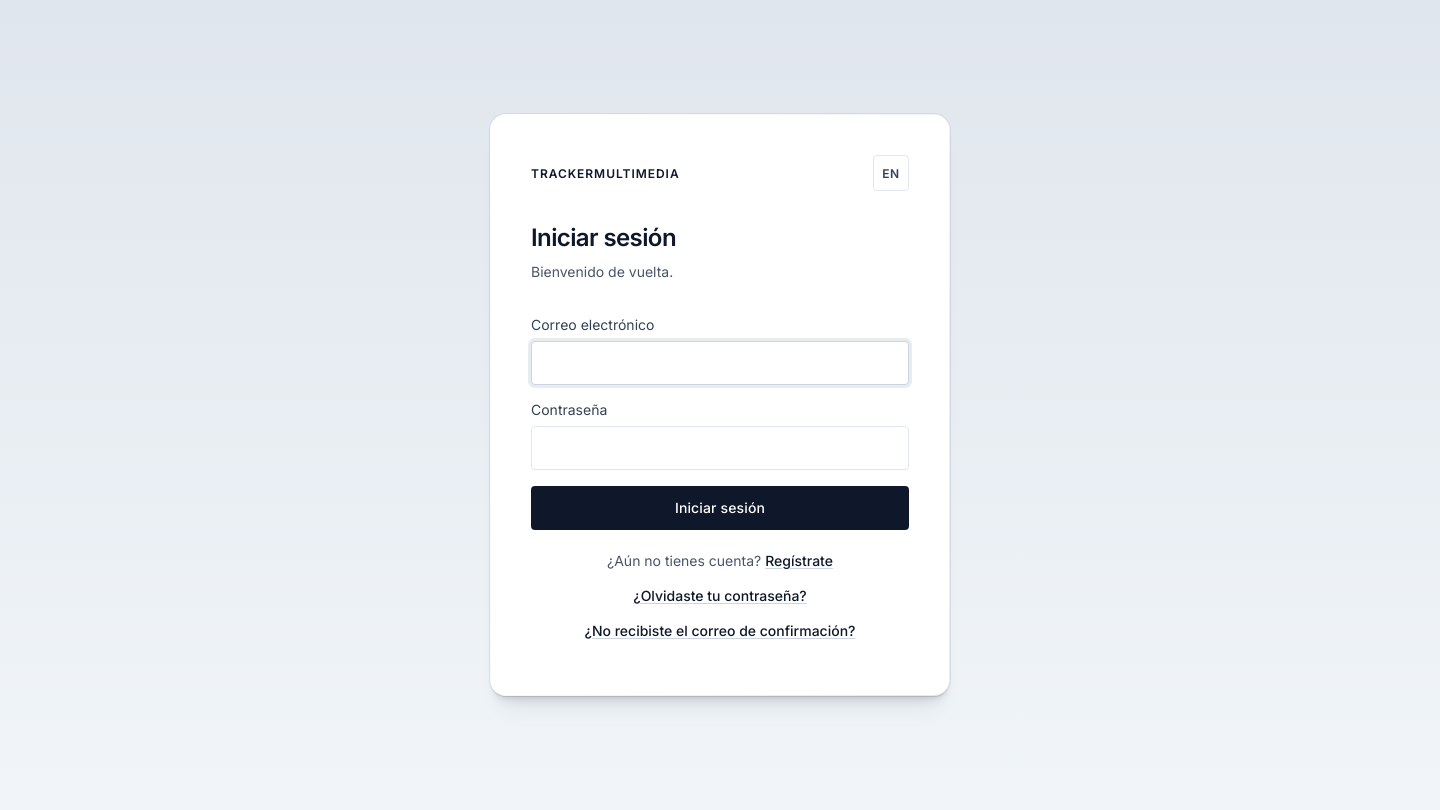
Scenario: LoginView › shows email validation error on real-time validation
Type "invalid-email" into the field labelled "Correo electrónico" at (720, 363), box [531,341,909,385]
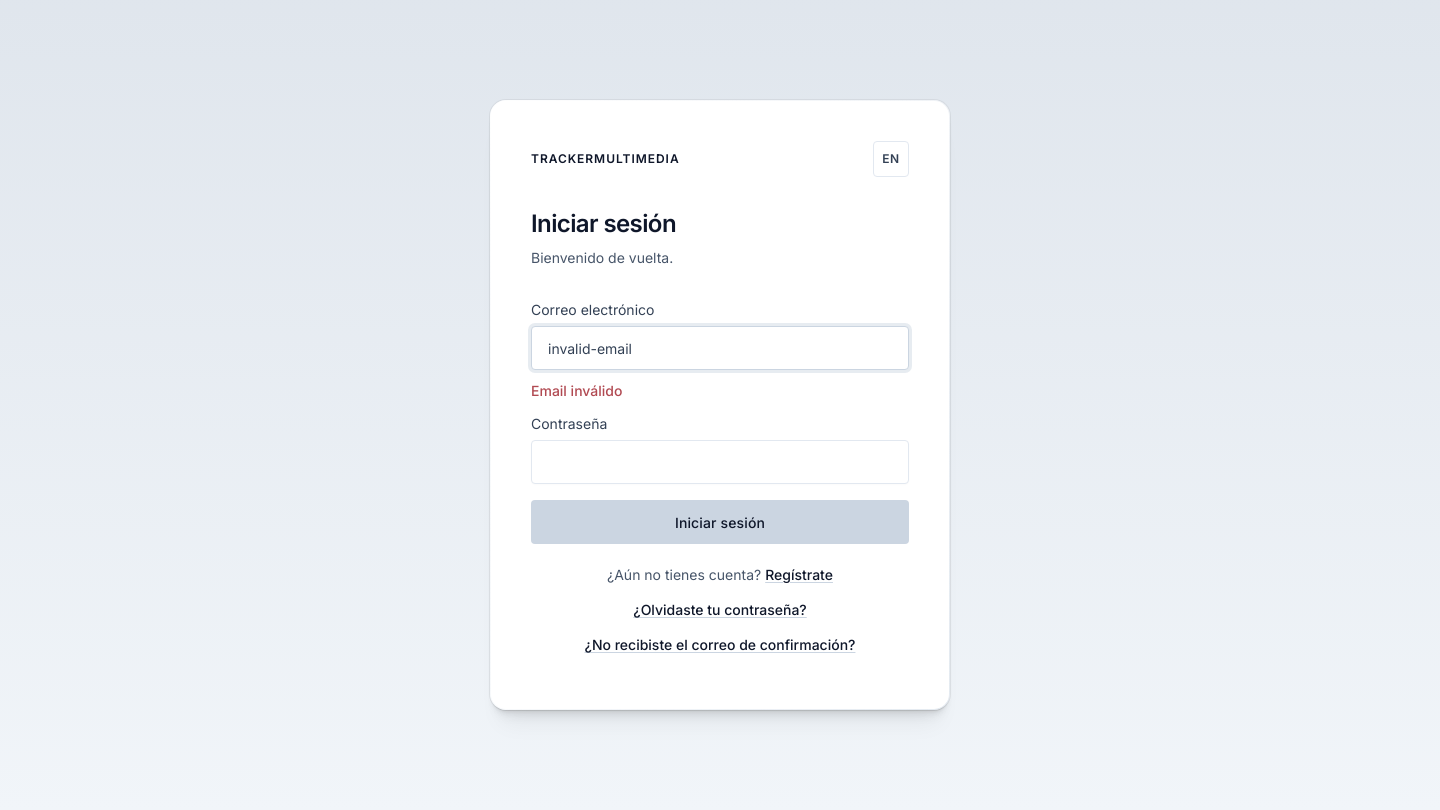
expect the text "Email inválido" is shown: met, box [531,382,622,399]
expect the button "Iniciar sesión" is disabled: met, box [531,500,909,544]
